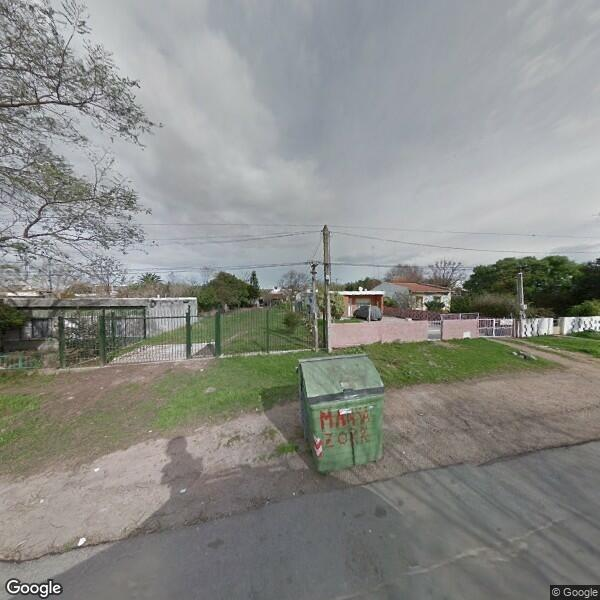Trash: (293, 350, 387, 474)
